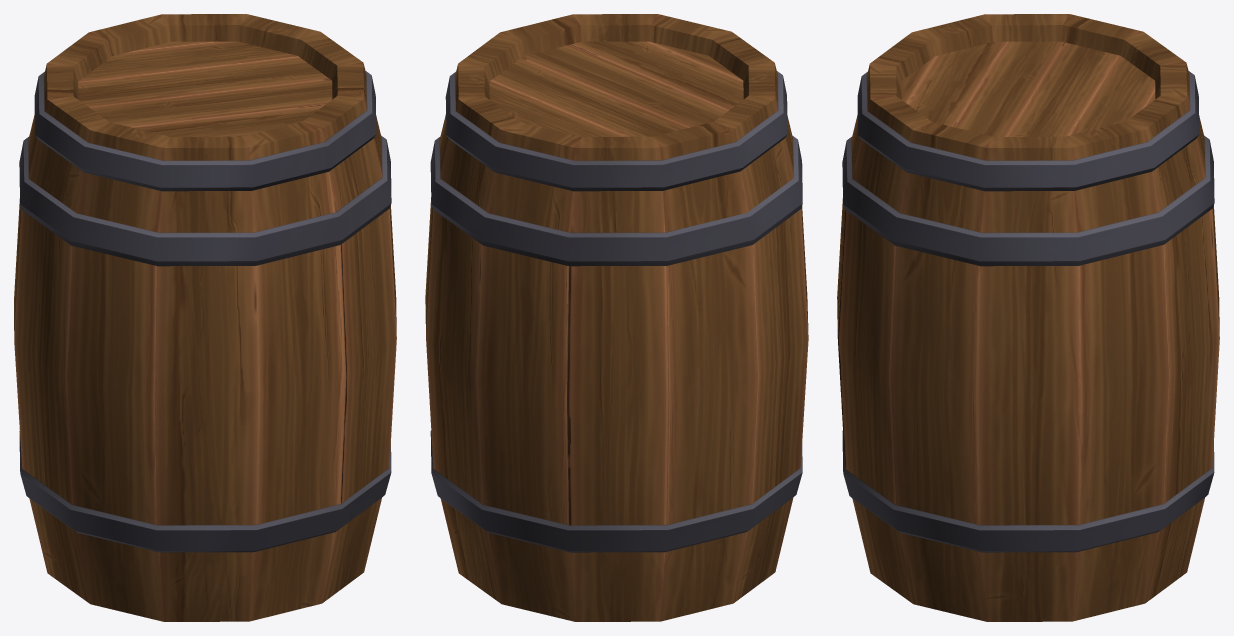
Rendered from Barrel_A_01.fbx.
3 renders of one model, left to right at view 1: azimuth 30°, elevation 25°; view 2: azimuth 150°, elevation 25°; view 3: azimuth 270°, elevation 25°, orthographic.
Parts seen in each view (by area): view 1: Barrel_A_01; view 2: Barrel_A_01; view 3: Barrel_A_01.
Part boxes in pixels (<box>): Barrel_A_01: <box>14,14,396,621</box>; Barrel_A_01: <box>425,14,808,621</box>; Barrel_A_01: <box>837,14,1219,621</box>.
Bounding box in the file's own units: 114 × 155 × 114.
Materials: 2 (2 with a texture image).
